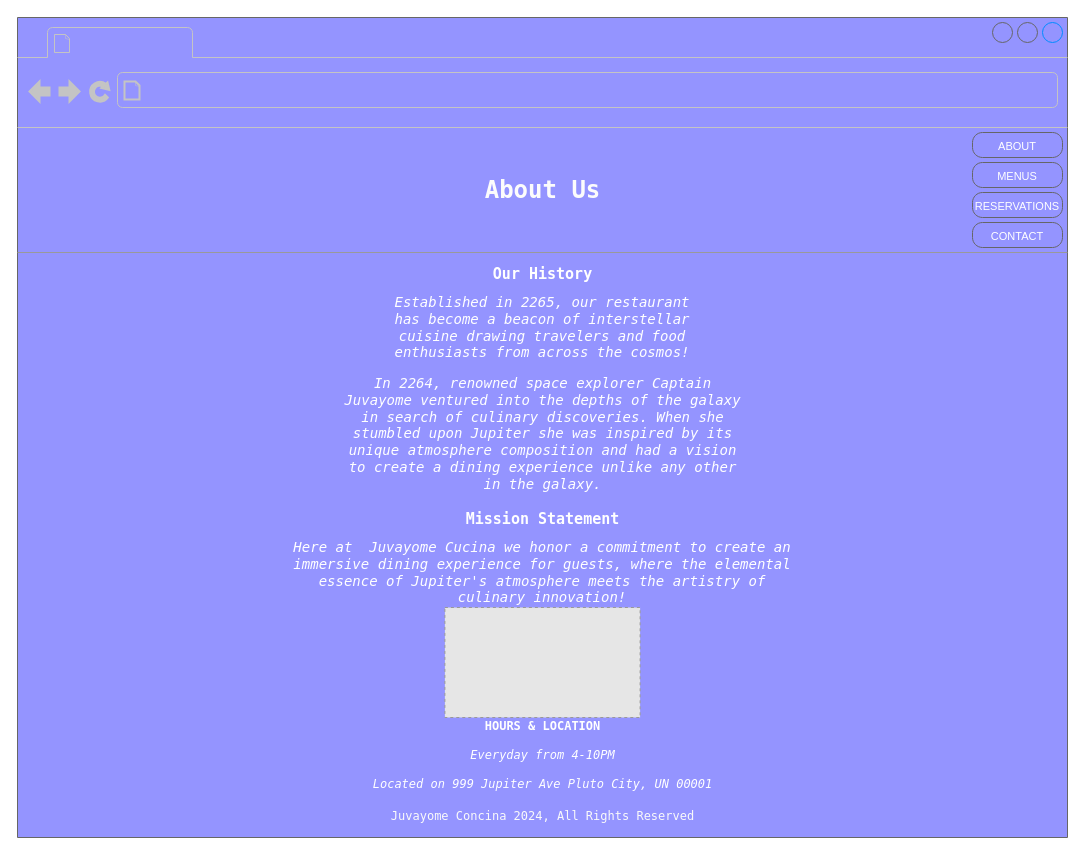
The diagram is 1085 pixels wide and 862 high, and some of its shapes have lost their labels. Grey dashed boxes stand in for pictures. Each missing label, with the centre of its shape:
"https://www.juvayomecucina.com/about us/" belongs at point (272, 90).
"Page 2" belongs at point (132, 42).
